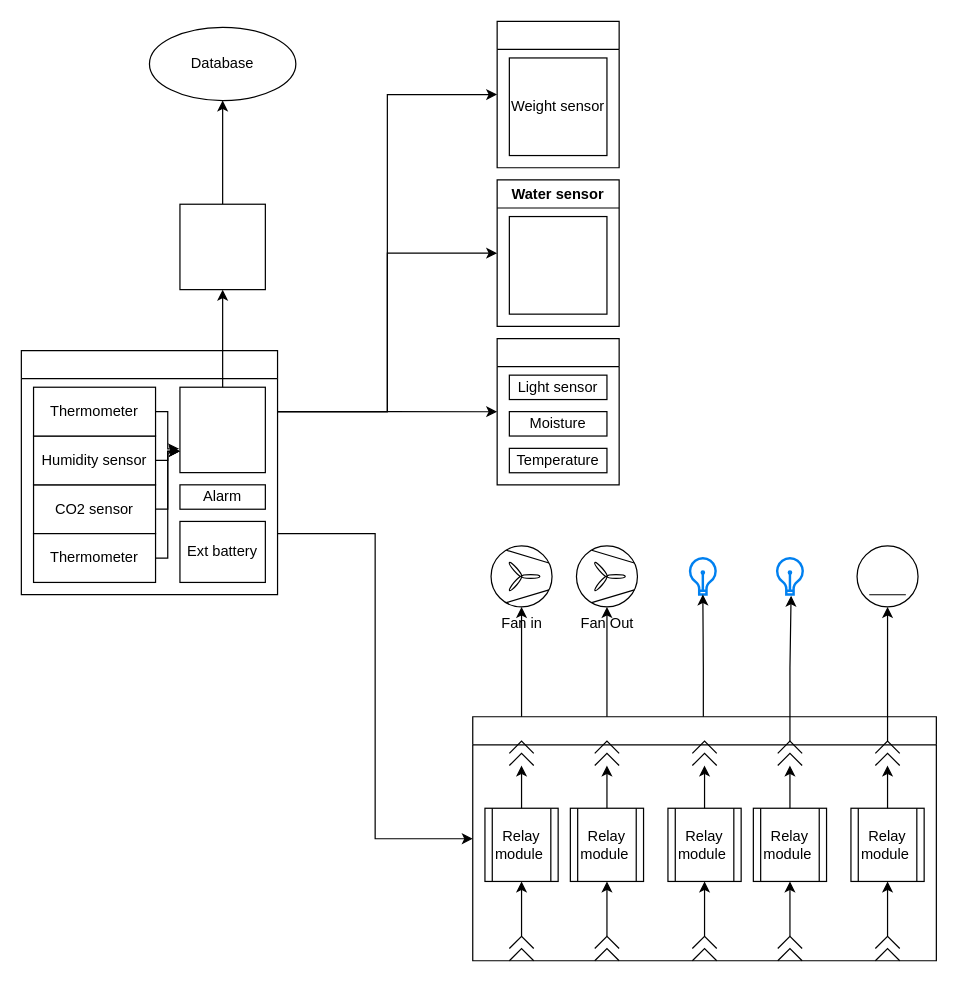
The diagram is 958 pixels wide and 982 high, and some of its shapes have lost their labels. The shapes that lost their labels are listed below. From the top down, each one's box as (x1, y1, x2, y2) in pixels, then its label:
(496, 20, 619, 168): Platform weight
(179, 203, 265, 290): IoT
(508, 215, 607, 314): Water level sensor
(179, 386, 265, 473): WiFi
(496, 337, 619, 485): Ground sensor
(20, 349, 278, 595): Main device
(856, 545, 918, 607): Water bomb
(472, 716, 936, 961): Vertical Container
